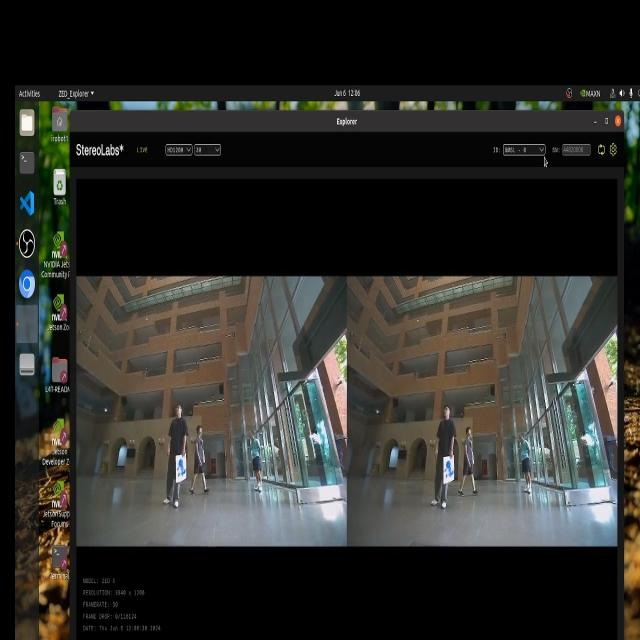blue: (174, 455, 190, 480), (444, 457, 459, 481)
